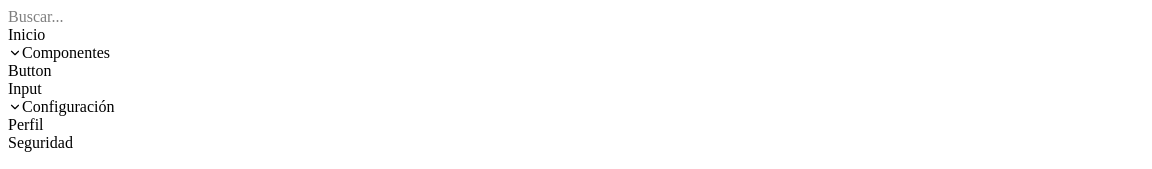
Test: Navbar — búsqueda › sin resultados muestra 'Sin resultados'
Type "zzz" into the field with placeholder "Buscar..." at (576, 17), box [8,8,1144,26]
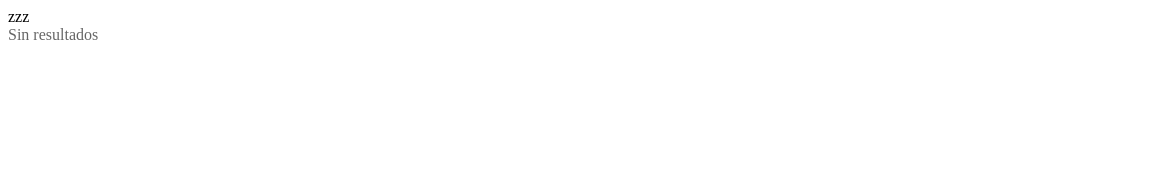
Check: the text "Sin resultados" is shown, box [8,26,98,43]
